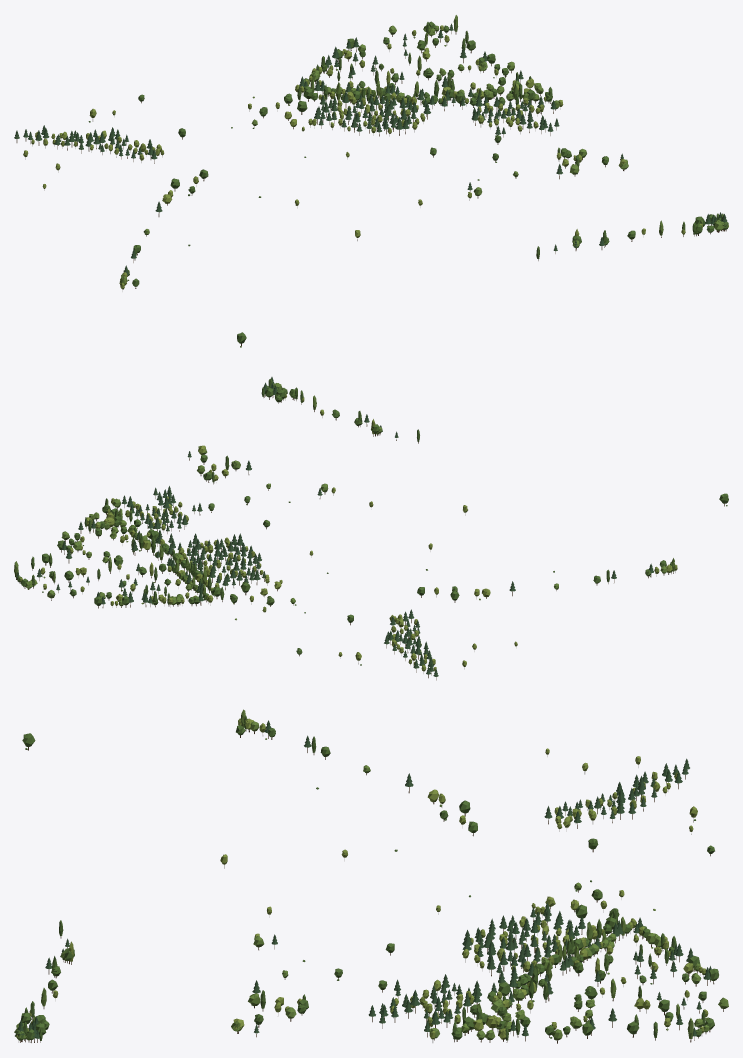
The model's file is Natura_2_3.fbx.
The picture shows the model from 3 angles, top to bottom: view 1: azimuth 30°, elevation 25°; view 2: azimuth 150°, elevation 25°; view 3: azimuth 270°, elevation 25°; orthographic projection. The views are drawn at different scales.
Bounding box in the file's own units: 497 × 19.12 × 474.
